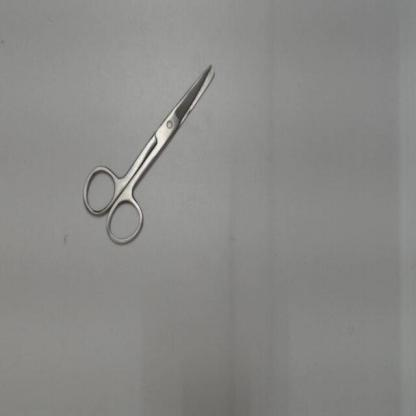Dressing Scissors: (76, 54, 224, 256)
